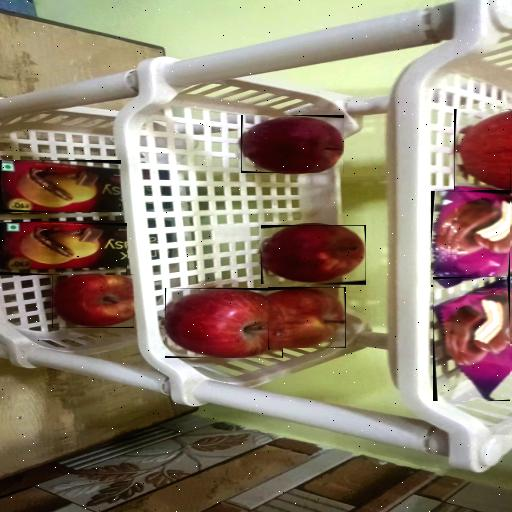Apple: (165, 288, 283, 358), (261, 226, 366, 286), (241, 115, 344, 173), (454, 110, 511, 194), (268, 287, 346, 348), (52, 274, 134, 328)
Choco Fills: (0, 223, 127, 275), (0, 160, 121, 212)
Choco Pie: (433, 277, 510, 401), (431, 191, 510, 287)
